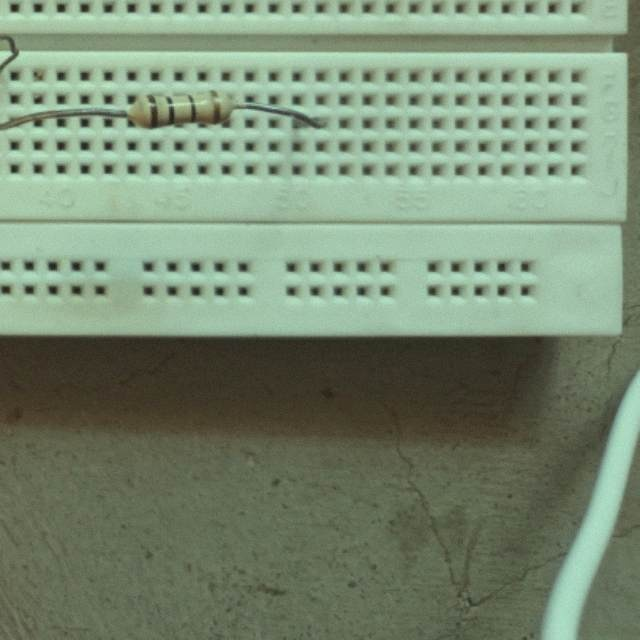resistor: (131, 92, 238, 132)
